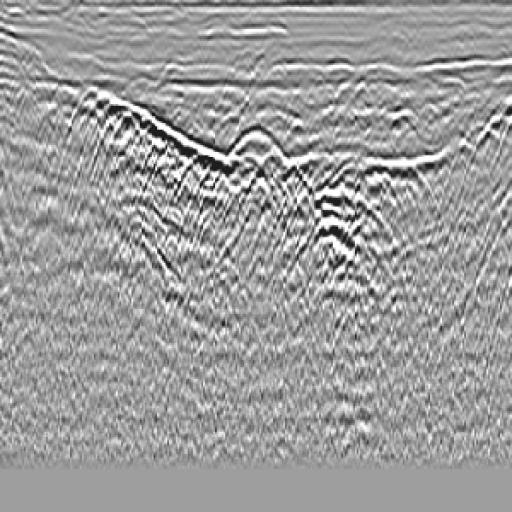metalic: (200, 108, 313, 237)
